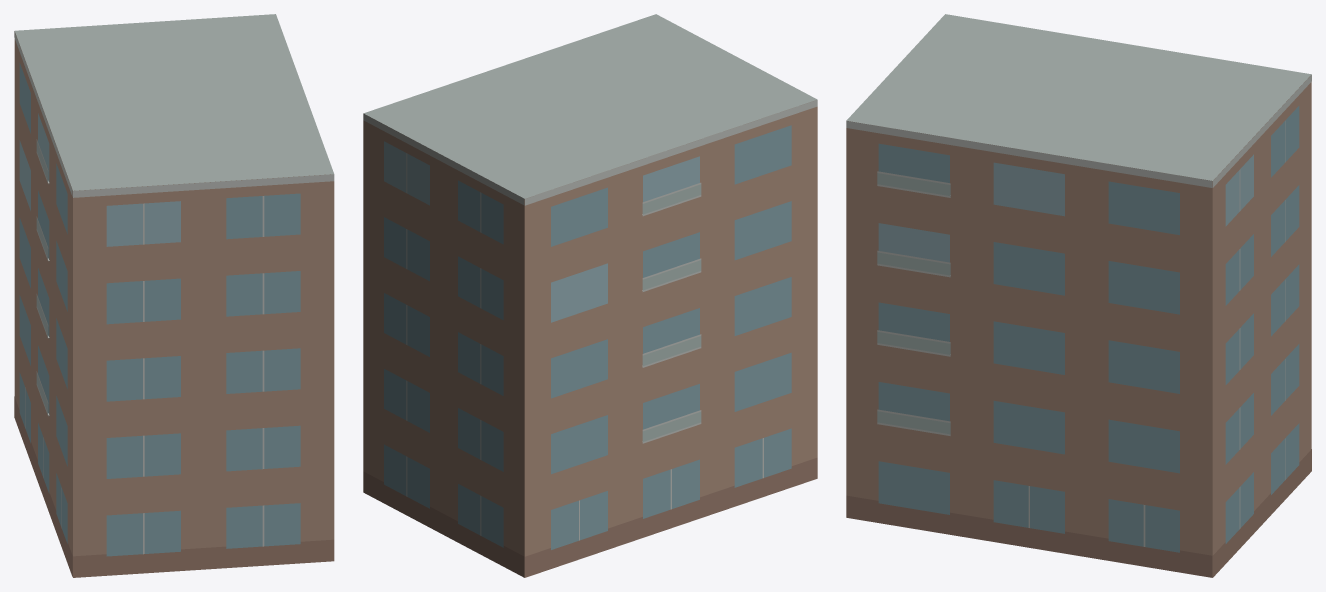
The model's file is survey-upis-33021923.glb.
The picture shows the model from 3 angles, left to right: view 1: azimuth 30°, elevation 25°; view 2: azimuth 150°, elevation 25°; view 3: azimuth 270°, elevation 25°; orthographic projection. The views are drawn at different scales.
Parts seen in each view (by area): view 1: survey-upis-33021923.tmp; view 2: survey-upis-33021923.tmp; view 3: survey-upis-33021923.tmp.
Part boxes in pixels (x1,y1,x2,y2): survey-upis-33021923.tmp: [14, 14, 334, 577]; survey-upis-33021923.tmp: [363, 14, 817, 577]; survey-upis-33021923.tmp: [846, 14, 1311, 577].
Bounding box in the file's own units: 12.09 × 13.4 × 14.25.
